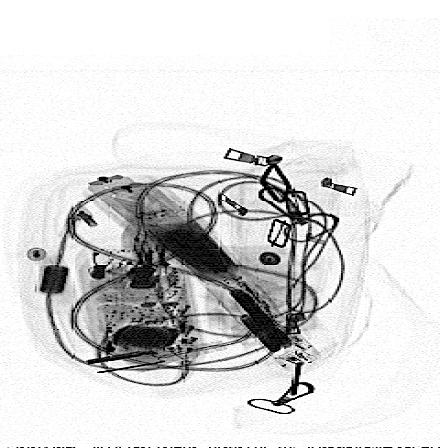Baton: (81, 172, 322, 367)
